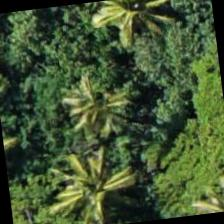Kelapa_Sawit: (56, 55, 156, 156), (31, 133, 132, 223), (73, 0, 169, 54), (178, 157, 223, 217)
